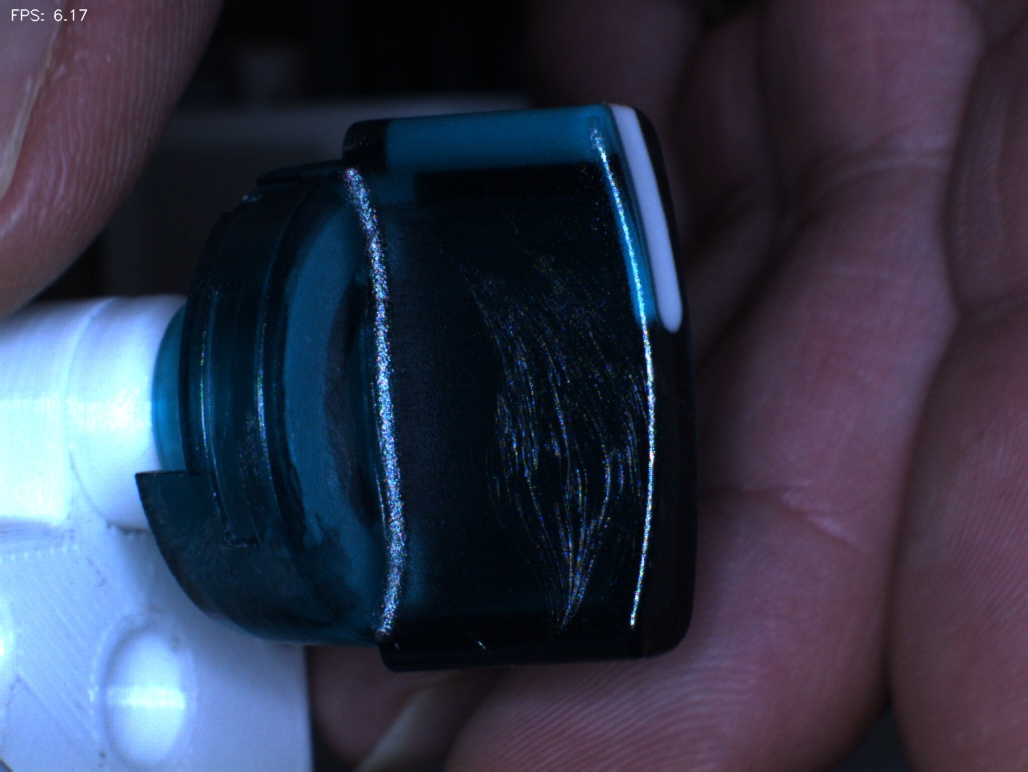Givrage: (478, 267, 641, 624)
